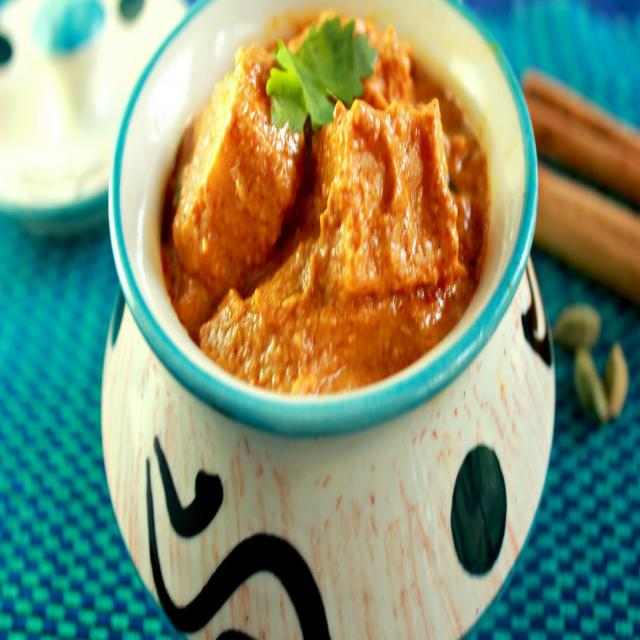ShahiPaneer: (158, 3, 488, 396)
